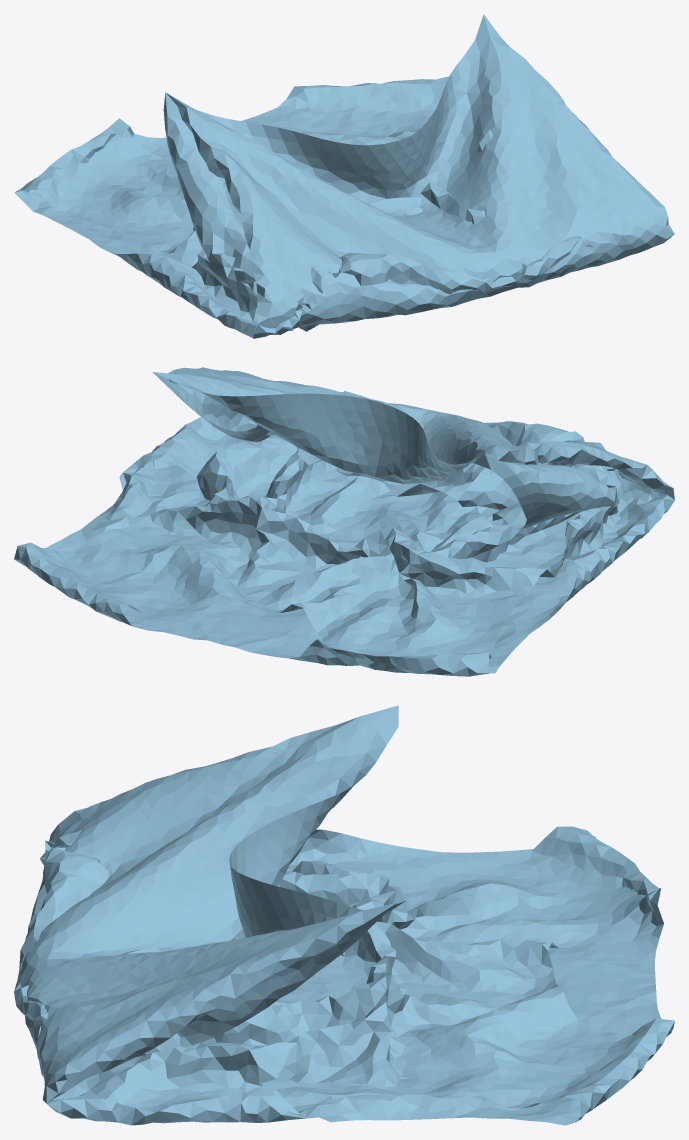
Rendered from frame_14.glb.
3 renders of one model, top to bottom at view 1: azimuth 30°, elevation 25°; view 2: azimuth 150°, elevation 25°; view 3: azimuth 270°, elevation 25°, orthographic. The views are drawn at different scales.
Parts seen in each view (by area): view 1: frame_14.obj; view 2: frame_14.obj; view 3: frame_14.obj.
Boxes of the visible parts, x1,y1,x2,y2 form: frame_14.obj: (14, 14, 674, 338); frame_14.obj: (14, 367, 674, 676); frame_14.obj: (14, 705, 674, 1125).
Size of the model in its own units: 1.24 by 0.3961 by 1.22.
